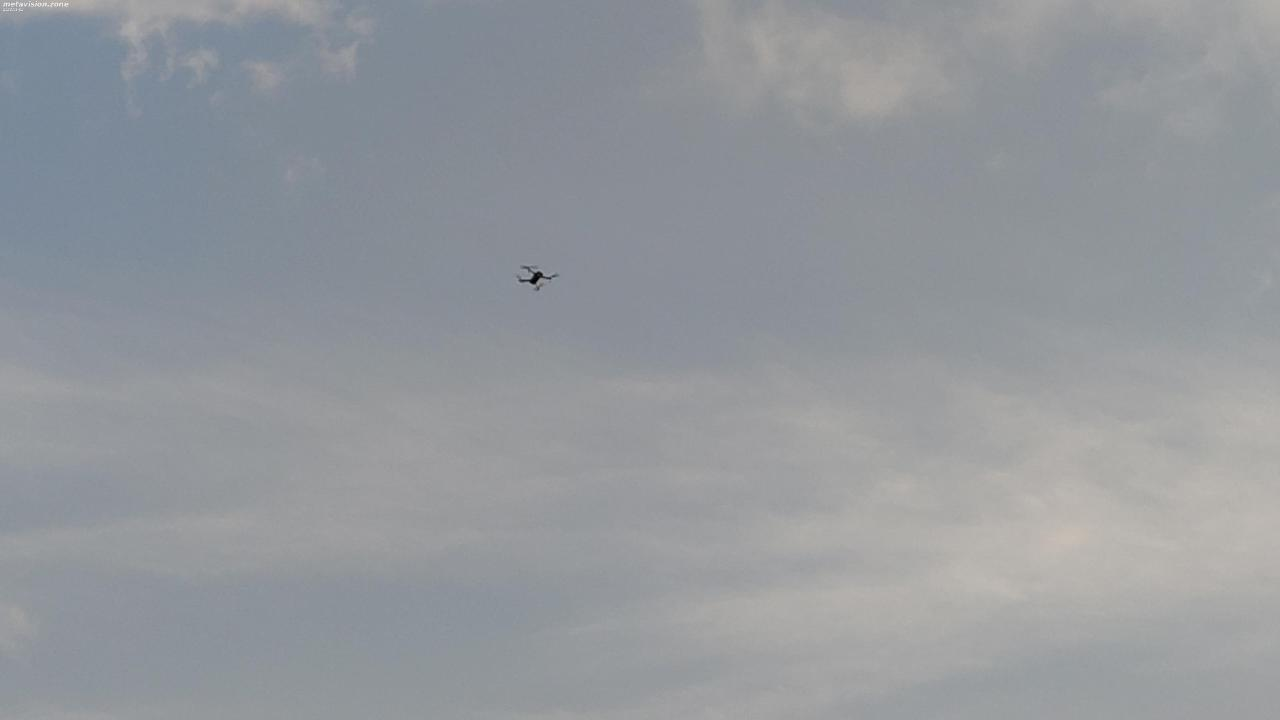drone: (514, 263, 562, 297)
